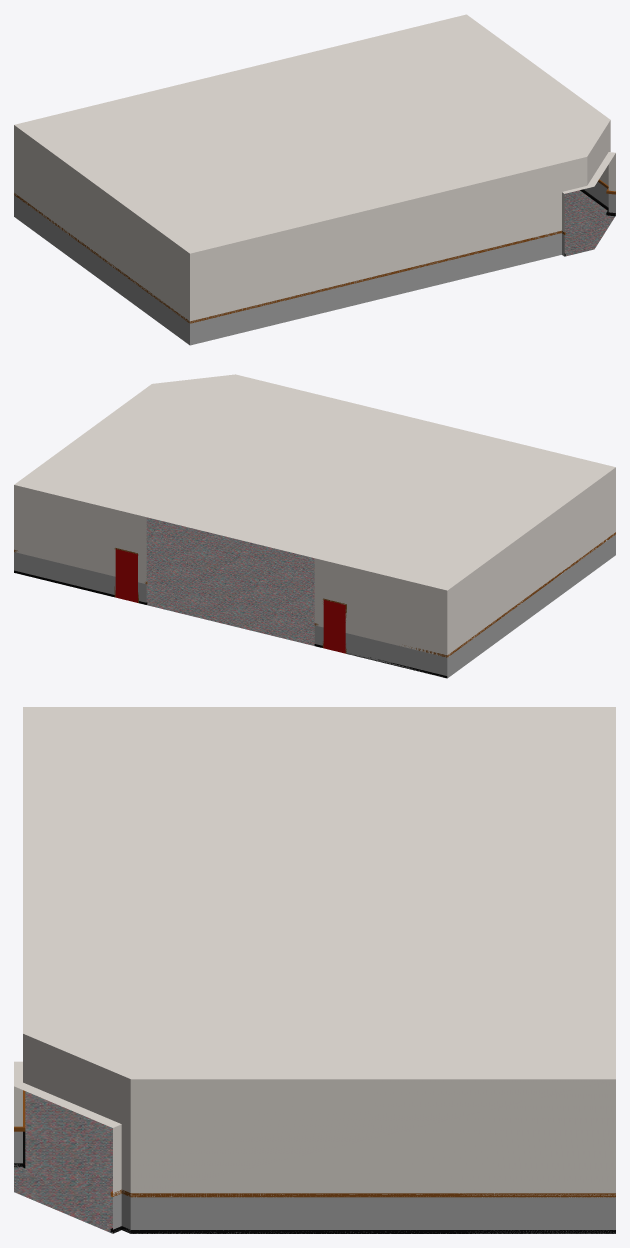
File: 1StageGenericRoom.glb
3 renders of one model, top to bottom at view 1: azimuth 30°, elevation 25°; view 2: azimuth 150°, elevation 25°; view 3: azimuth 270°, elevation 25°, orthographic. The views are drawn at different scales.
Visible parts, largest first — view 1: Room; view 2: Room; view 3: Room.
Boxes of the visible parts, x1,y1,x2,y2 form: Room: [14, 14, 615, 345]; Room: [14, 374, 615, 678]; Room: [14, 707, 615, 1233].
Bounding box in the file's own units: 19.6 × 3.8 × 13.4.
6 materials, 1 textured.
